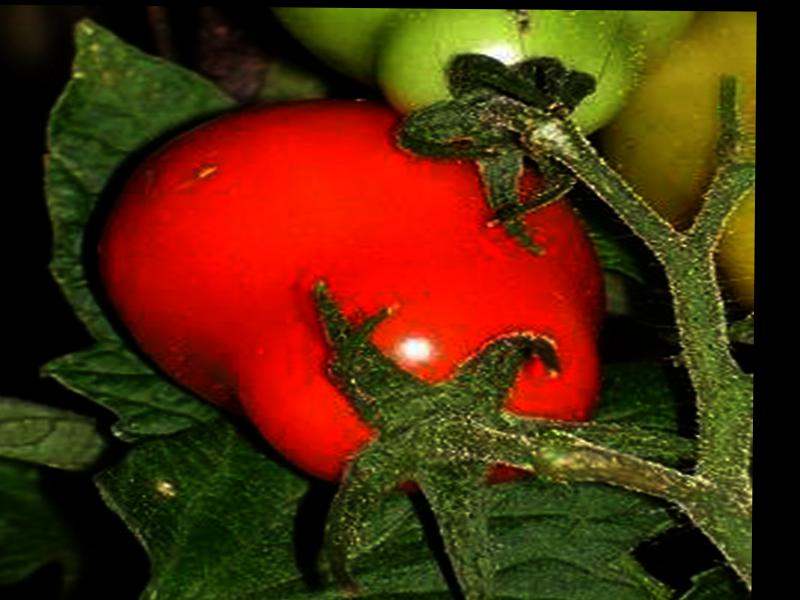Tomato: (92, 98, 601, 492)
